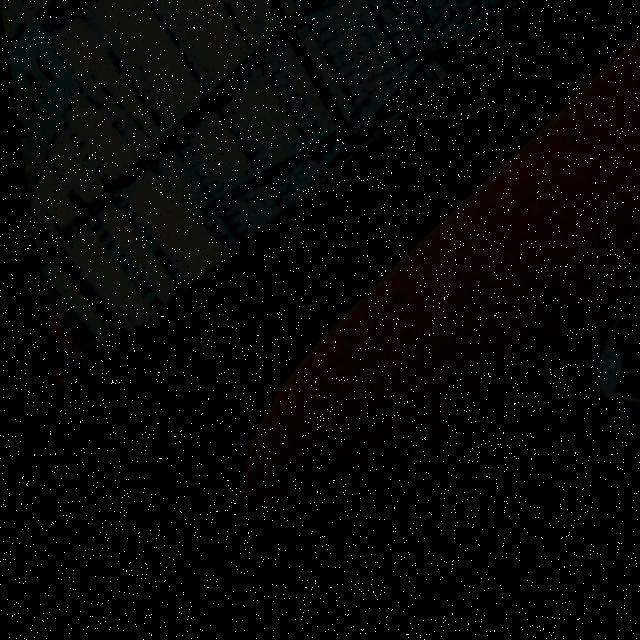adapter: (564, 246, 640, 591)
